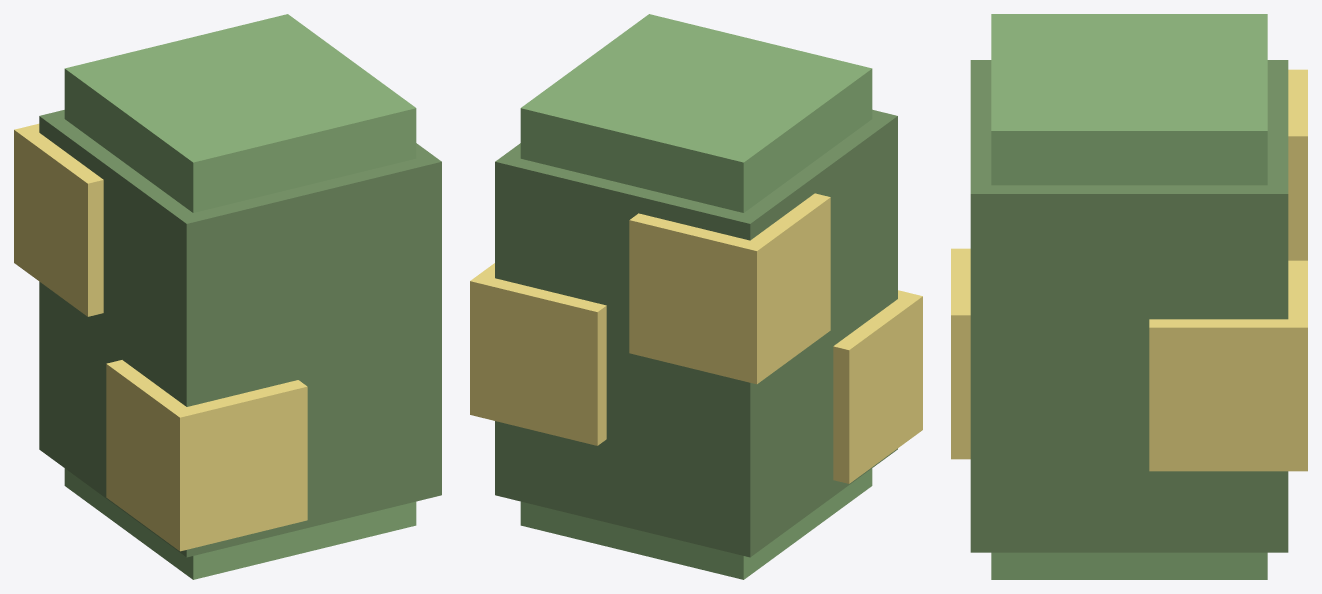
File: egg_parasaurolophus.obj
The picture shows the model from 3 angles, left to right: view 1: azimuth 30°, elevation 25°; view 2: azimuth 150°, elevation 25°; view 3: azimuth 270°, elevation 25°; orthographic projection. The views are drawn at different scales.
Visible parts, largest first — view 1: egg_parasaurolophus; view 2: egg_parasaurolophus; view 3: egg_parasaurolophus.
Boxes of the visible parts, bbox=[...] form: egg_parasaurolophus: bbox=[14, 14, 441, 579]; egg_parasaurolophus: bbox=[470, 14, 922, 579]; egg_parasaurolophus: bbox=[951, 14, 1307, 579].
Size of the model in its own units: 5.23 by 7.27 by 5.24.
